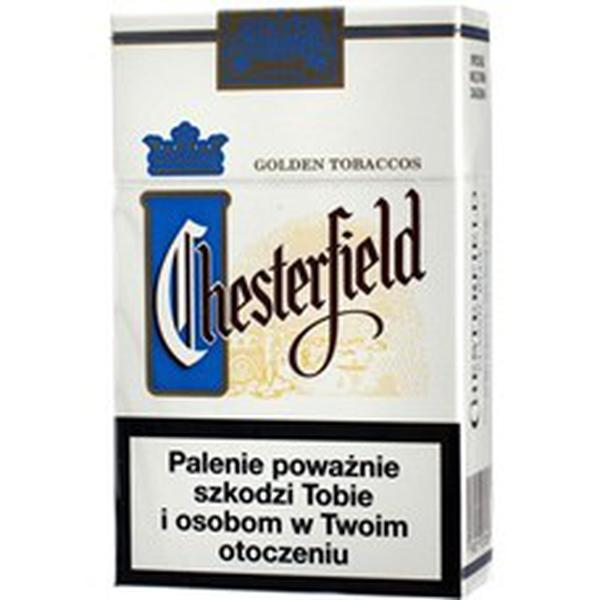chesterfield_blue: (112, 14, 460, 597)
